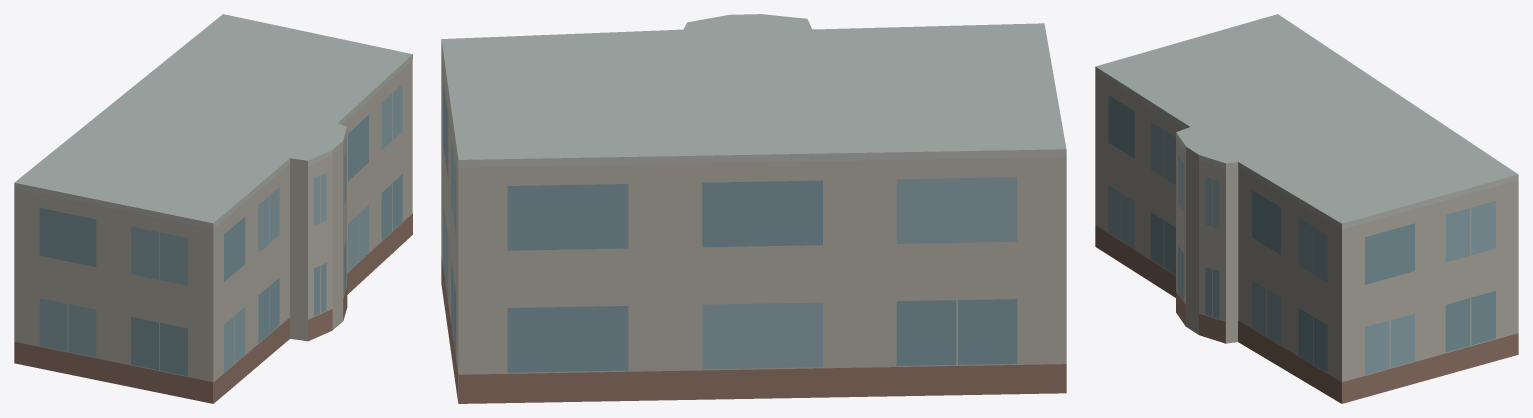
File: survey-upis-33028157.glb
3 views of the same model, side by side, from view 1: azimuth 30°, elevation 25°; view 2: azimuth 150°, elevation 25°; view 3: azimuth 270°, elevation 25° (orthographic). The views are drawn at different scales.
Parts seen in each view (by area): view 1: survey-upis-33028157.tmp; view 2: survey-upis-33028157.tmp; view 3: survey-upis-33028157.tmp.
Boxes of the visible parts, box(x1,y1,x2,y2) form: survey-upis-33028157.tmp: box(14, 14, 412, 403); survey-upis-33028157.tmp: box(441, 14, 1066, 403); survey-upis-33028157.tmp: box(1095, 14, 1518, 403).
Bounding box in the file's own units: 19.48 × 7.8 × 16.62.
